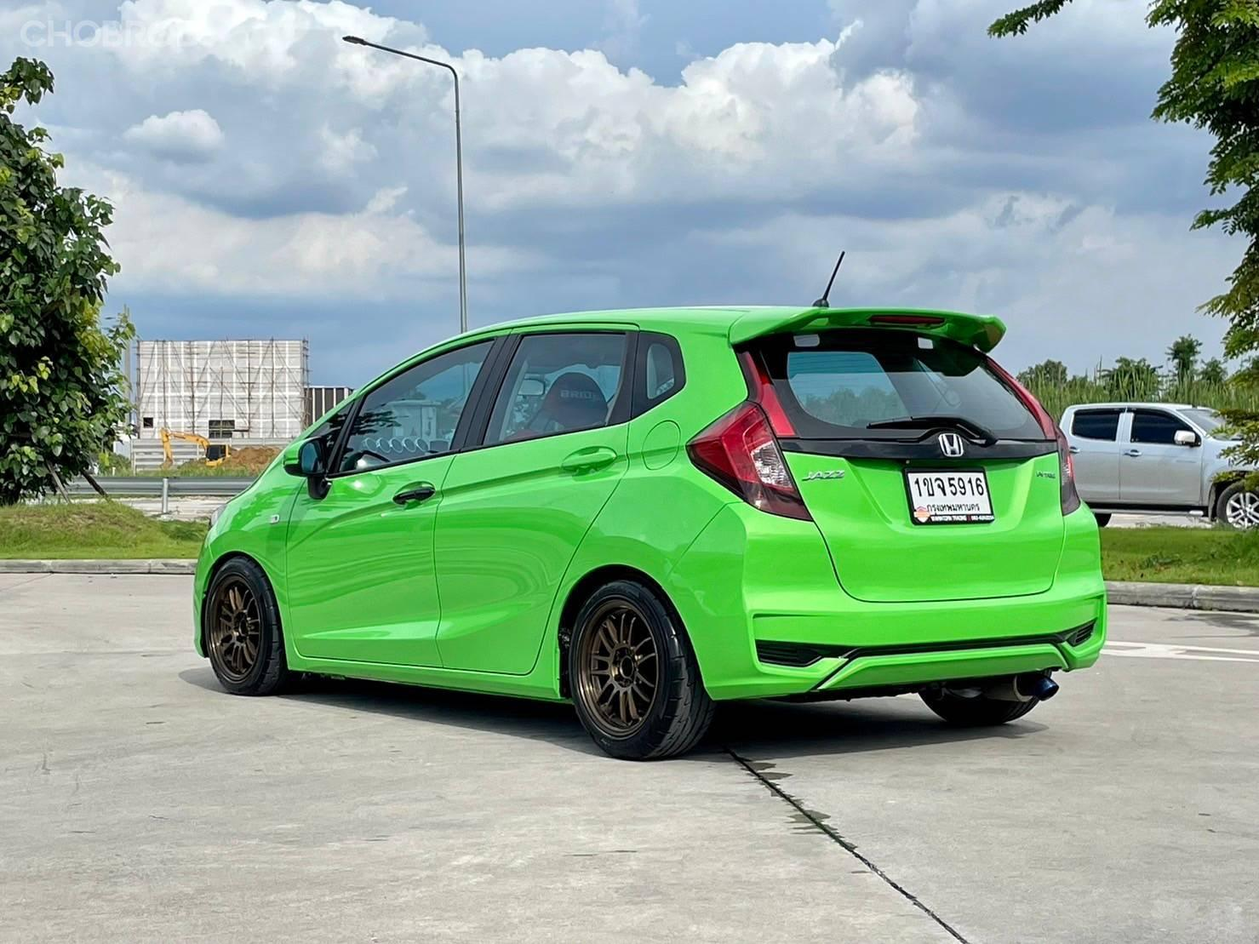license-plate: (897, 462, 1000, 529)
